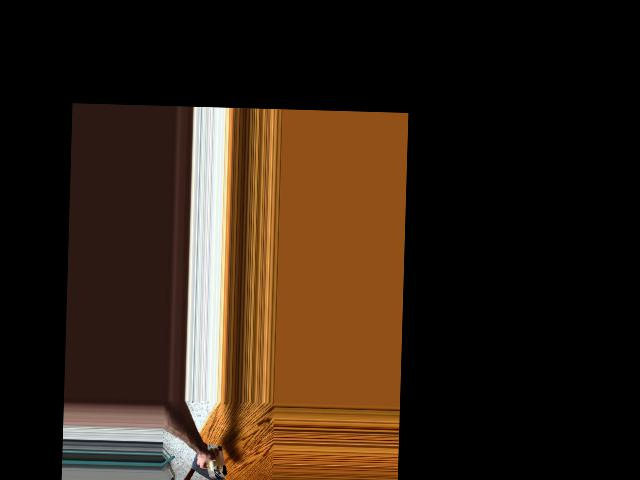cheese: (204, 444, 227, 477)
